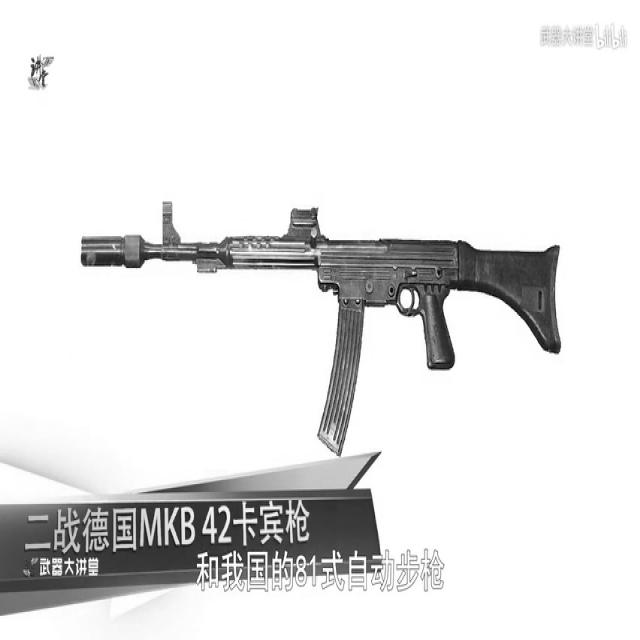Rifle: (78, 186, 575, 446)
